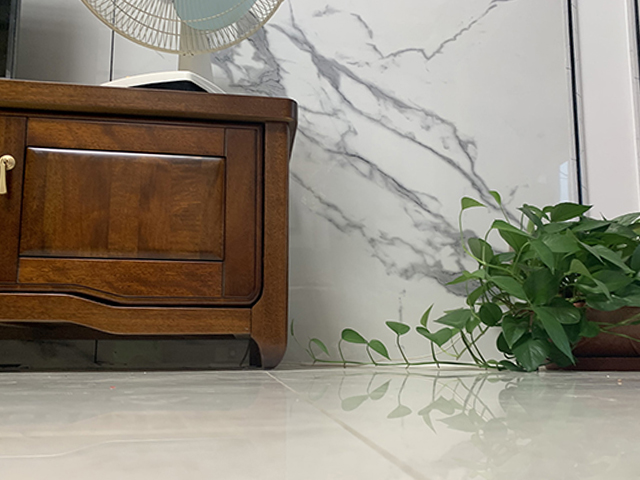cabinet: (1, 75, 299, 371)
